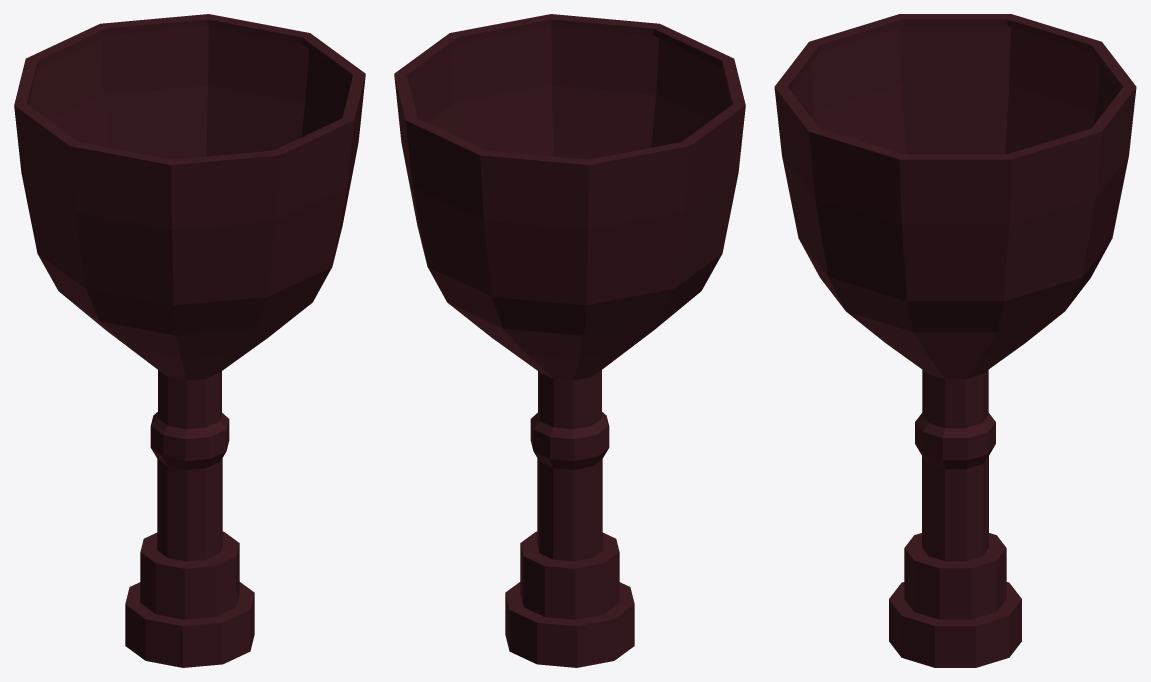
File: Glass 2.fbx
3 views of the same model, side by side, from view 1: azimuth 30°, elevation 25°; view 2: azimuth 150°, elevation 25°; view 3: azimuth 270°, elevation 25° (orthographic).
Parts seen in each view (by area): view 1: Glass 3.001; view 2: Glass 3.001; view 3: Glass 3.001.
Part boxes in pixels (box(x1,y1,x2,y2)): Glass 3.001: box(14, 14, 365, 667); Glass 3.001: box(394, 14, 745, 667); Glass 3.001: box(774, 14, 1136, 667).
Size of the model in its own units: 25.65 by 45.57 by 26.97.
